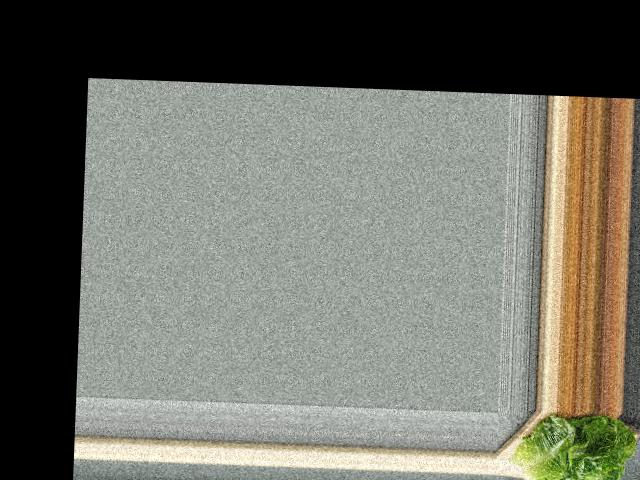lettuce: (513, 408, 640, 480)
